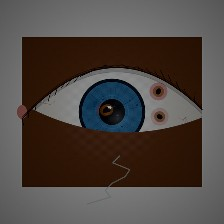foreign_body_visible: (91, 97, 124, 123)
